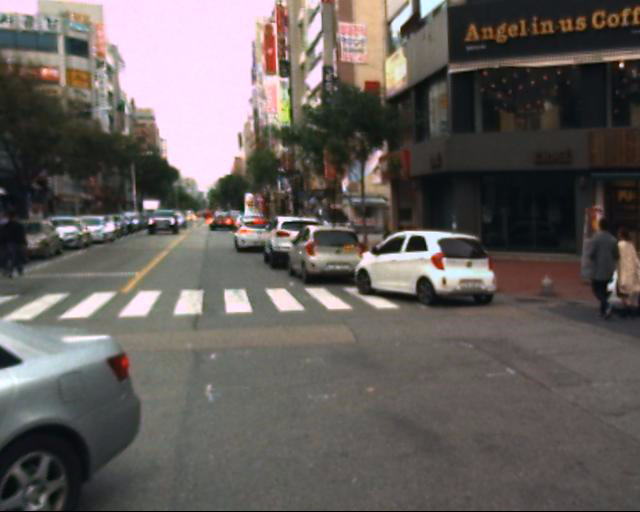person: (583, 214, 621, 331), (0, 201, 47, 286), (608, 226, 640, 327), (0, 203, 28, 283)
